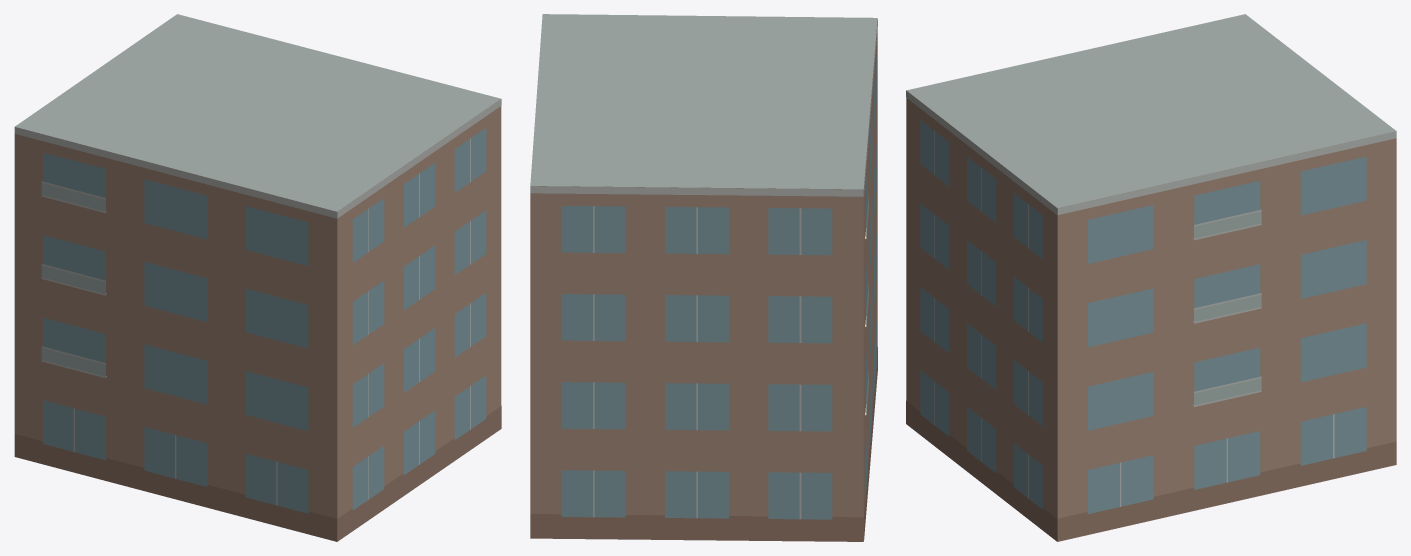
The model's file is survey-upis-32980750.glb.
3 views of the same model, side by side, from view 1: azimuth 30°, elevation 25°; view 2: azimuth 150°, elevation 25°; view 3: azimuth 270°, elevation 25° (orthographic). The views are drawn at different scales.
Visible parts, largest first — view 1: survey-upis-32980750.tmp; view 2: survey-upis-32980750.tmp; view 3: survey-upis-32980750.tmp.
Boxes of the visible parts, box(x1,y1,x2,y2) form: survey-upis-32980750.tmp: box(14, 14, 501, 541); survey-upis-32980750.tmp: box(530, 14, 877, 541); survey-upis-32980750.tmp: box(906, 14, 1396, 541).
Size of the model in its own units: 14.49 by 11.6 by 15.46.
